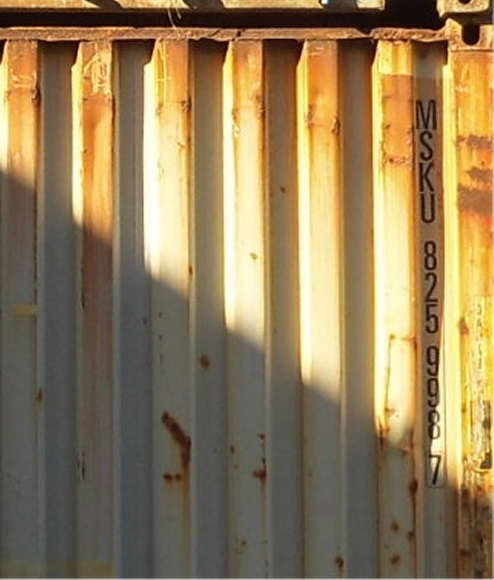container_no_door: (1, 24, 492, 575)
